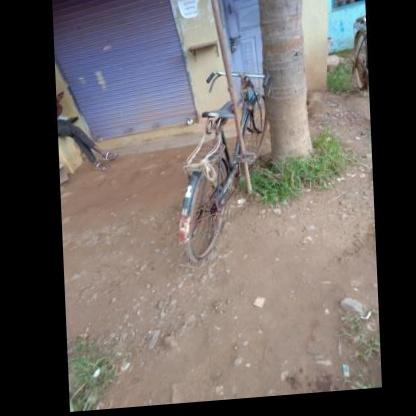Bicycle: (151, 51, 272, 266)
